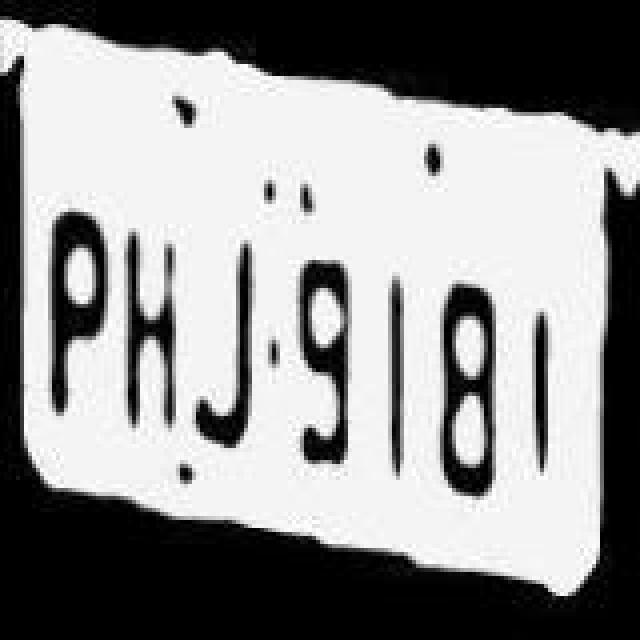1: (526, 262, 582, 510), (382, 254, 430, 514)
8: (432, 232, 508, 524)
9: (294, 252, 374, 516)
H: (110, 196, 190, 448)
J: (192, 228, 268, 464)
P: (36, 176, 112, 432)
